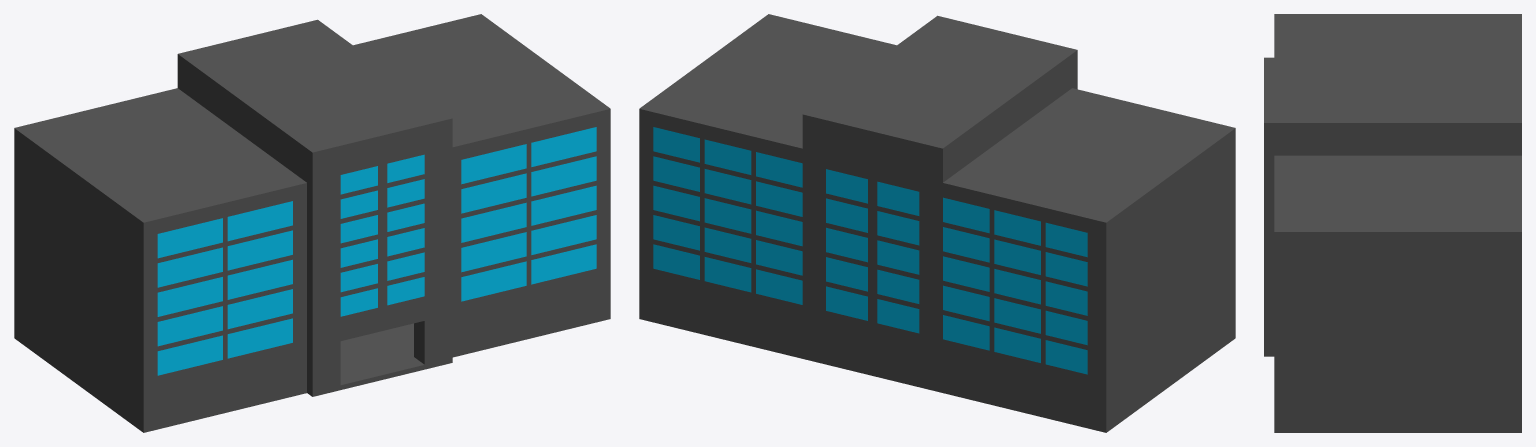
File: wide-tower-1.obj
3 views of the same model, side by side, from view 1: azimuth 30°, elevation 25°; view 2: azimuth 150°, elevation 25°; view 3: azimuth 270°, elevation 25° (orthographic). The views are drawn at different scales.
Bounding box in the file's own units: 100 × 50 × 50.
Materials: 1 (1 with a texture image).
